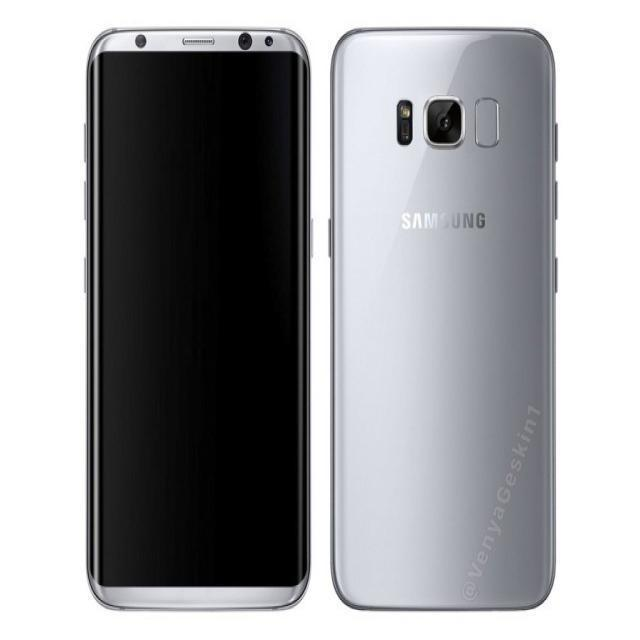phone: (328, 24, 560, 614)
